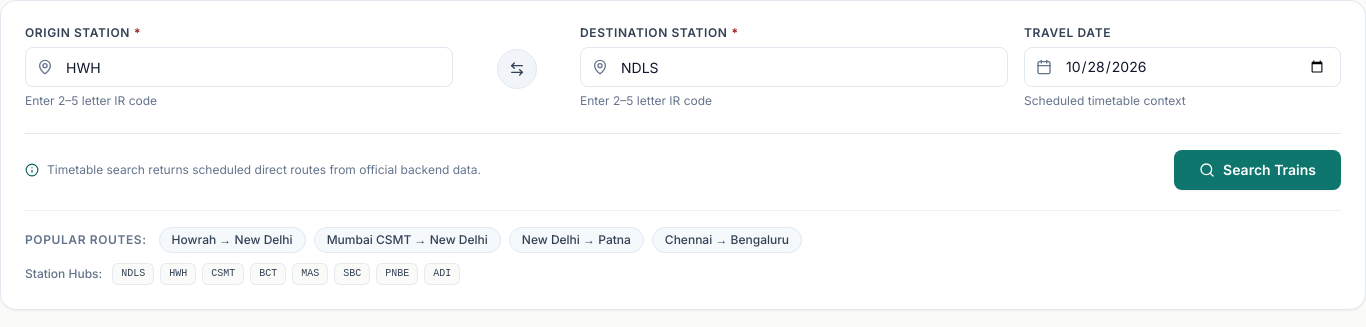
Test: TrainSearchForm Component › rejects past travel date and prevents search submission
Type "2020-01-01" into the date field labelled "Travel Date" at (1182, 67), box [1024,47,1341,87]
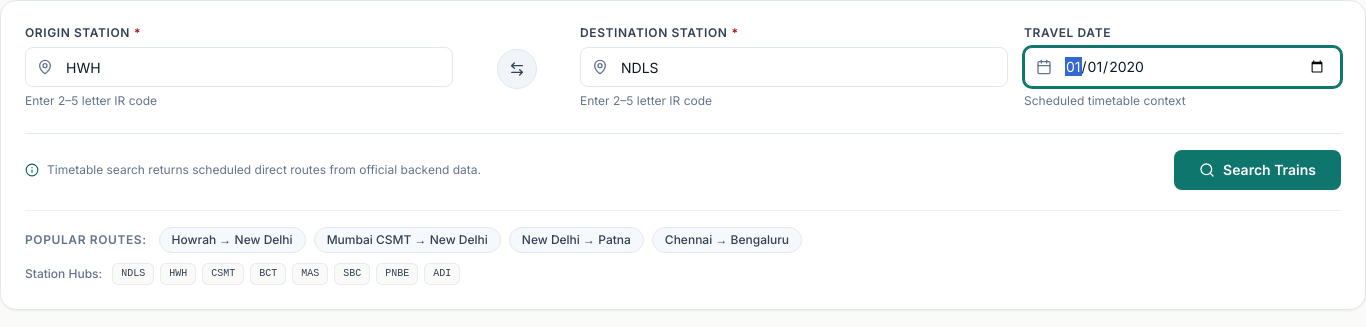
Click the button "Search Trains" at (1258, 170), box [1174,150,1341,190]
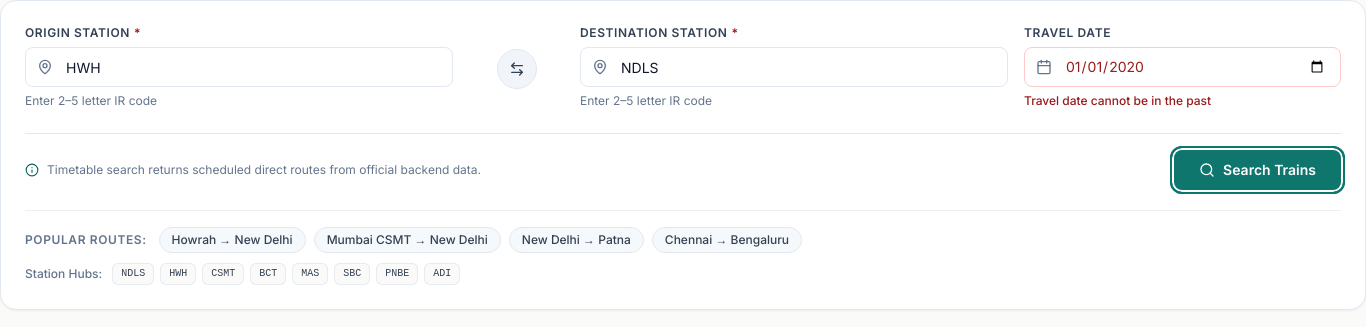
Expected: the text "Travel date cannot be in the past" is shown, [1024,93,1211,108]
